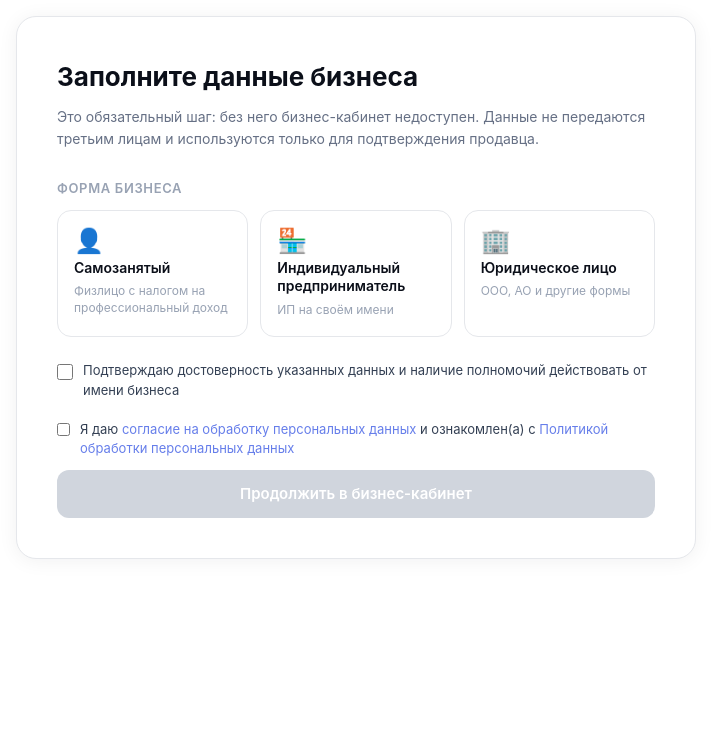
BusinessOnboardingPage › legal_entity shows company fields
What coordinates should you click on to do the following:
click the radio button labelled "🏢 Юридическое лицо ООО, АО и другие формы"
I would click on:
 (559, 274)
Its box is [464,210,655,338].
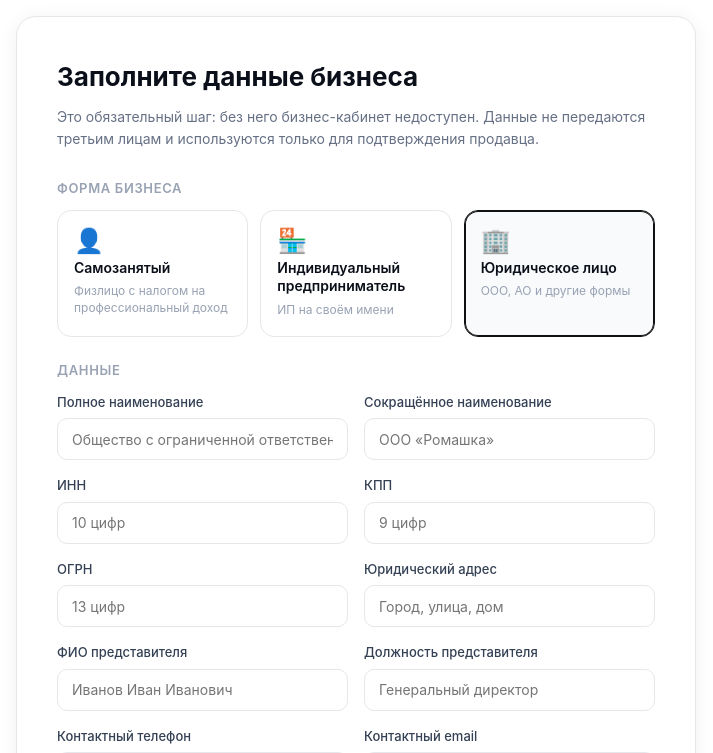
Check: the field labelled "Полное наименование" is shown, box [57,418,348,460]
Check: the field labelled "Сокращённое наименование" is shown, box [364,418,655,460]
Check: the field labelled "ИНН" is shown, box [57,502,348,544]
